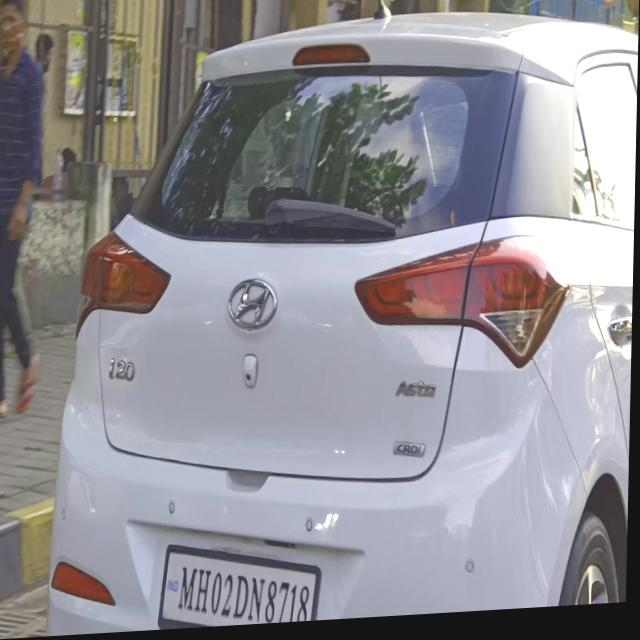0: (214, 577, 225, 619)
2: (225, 580, 235, 621)
7: (280, 581, 291, 626), (291, 585, 300, 626)
8: (299, 588, 313, 626), (269, 586, 280, 626)
d: (237, 578, 250, 624)
h: (200, 570, 213, 620)
m: (181, 568, 198, 618)
n: (250, 581, 266, 626)
